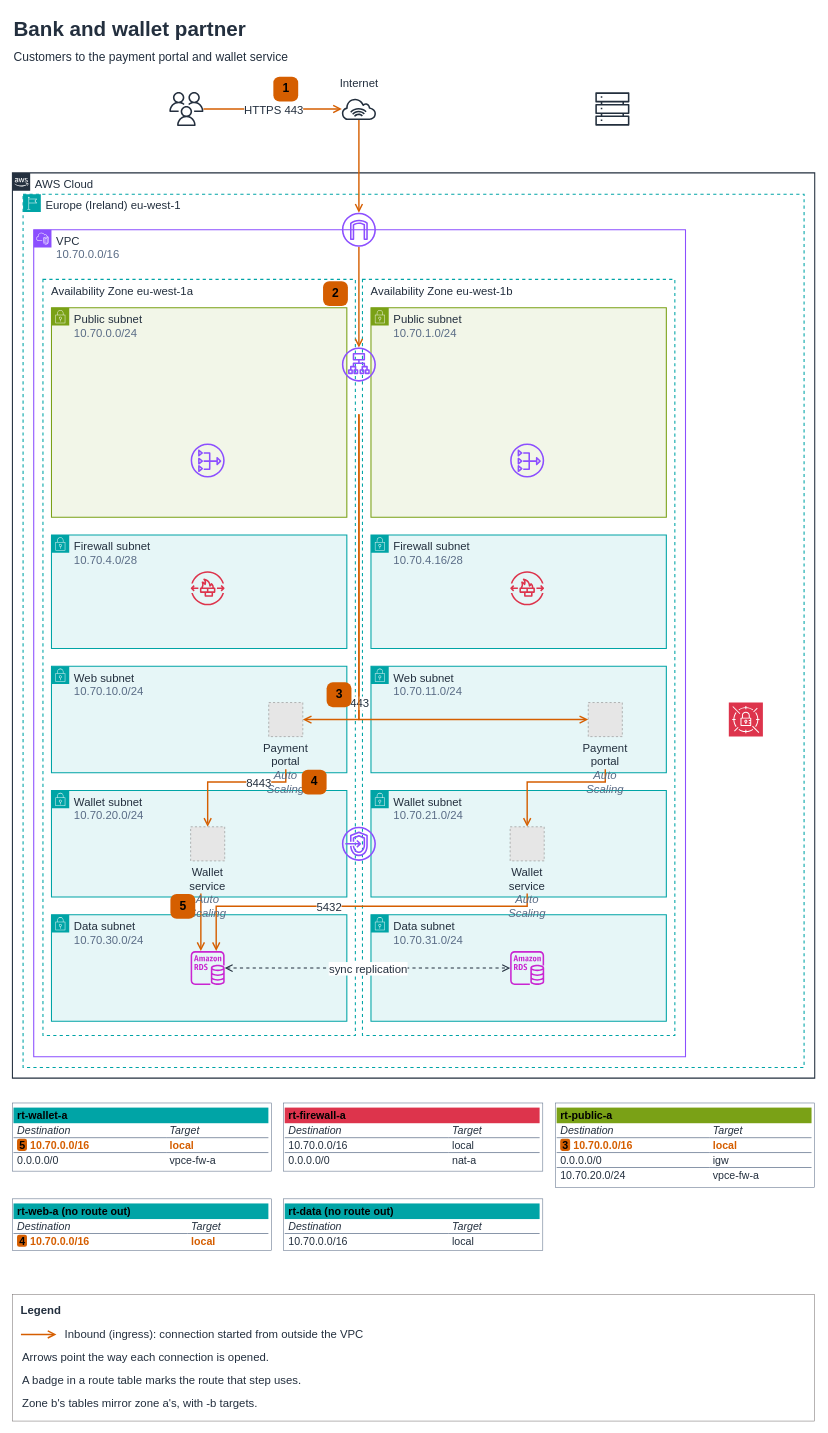
Some shapes in this 828 by 1433 pixel diagram are drawn without their labels. Grey dashed boxes stand in for pictures. Here are the shapes that lost their labels. From the top down, the centre of each, then its label:
At [186,109]: "Customers payment portal".
At [612,109]: "Partner wallet API mutual TLS, IP allow list".
At [359,229]: "Internet gateway igw".
At [359,364]: "Application Load Balancer + AWS WAF".
At [207,460]: "NAT gateway Elastic IP a".
At [527,460]: "NAT gateway Elastic IP b".
At [207,588]: "Firewall endpoint vpce-fw-a".
At [527,588]: "Firewall endpoint vpce-fw-b".
At [745,719]: "AWS Secrets Manager".
At [359,843]: "Interface endpoint Secrets Manager".
At [207,968]: "Wallet database RDS primary".
At [527,968]: "Wallet database RDS standby".
